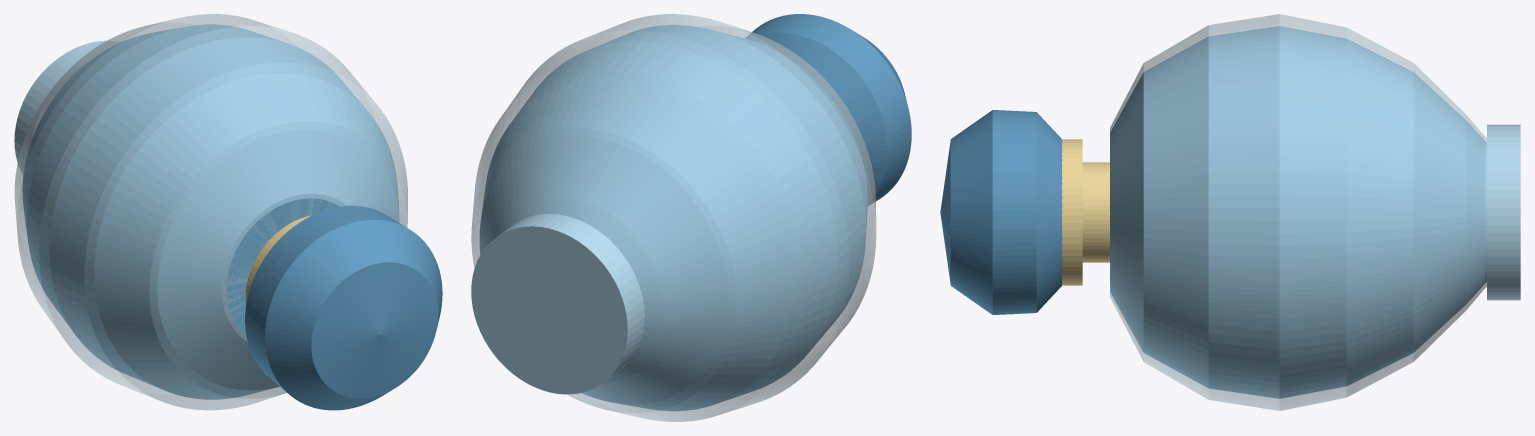
The model's file is shalimar_realista.glb.
3 renders of one model, left to right at view 1: azimuth 30°, elevation 25°; view 2: azimuth 150°, elevation 25°; view 3: azimuth 270°, elevation 25°, orthographic. The views are drawn at different scales.
Parts seen in each view (by area): view 1: glass_outer, blue_liquid, blue_cap, foot, collar; view 2: glass_outer, blue_liquid, foot, blue_cap; view 3: glass_outer, blue_liquid, blue_cap, foot, collar, gold_neck.
Part boxes in pixels (x1,y1,x2,y2): glass_outer: (14, 14, 407, 410); blue_liquid: (22, 24, 399, 399); blue_cap: (245, 205, 442, 410); foot: (14, 40, 120, 173); collar: (245, 215, 311, 305); glass_outer: (471, 14, 876, 421); blue_liquid: (479, 25, 867, 411); foot: (471, 214, 644, 394); blue_cap: (745, 14, 911, 205); glass_outer: (1110, 14, 1486, 410); blue_liquid: (1110, 26, 1486, 398); blue_cap: (940, 110, 1062, 314); foot: (1487, 124, 1520, 300); collar: (1062, 139, 1082, 285); gold_neck: (1082, 162, 1109, 262).
Size of the model in its own units: 1.9 by 1.9 by 2.77.
